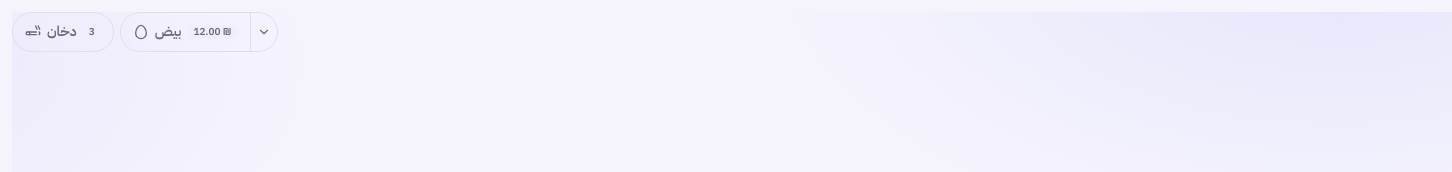
it: opening a card › closes on Escape
This screenshot has width=1452, height=172.
Click the button with test id "quick-card-eggs-menu" at (263, 32), box 250,13 -> 277,51
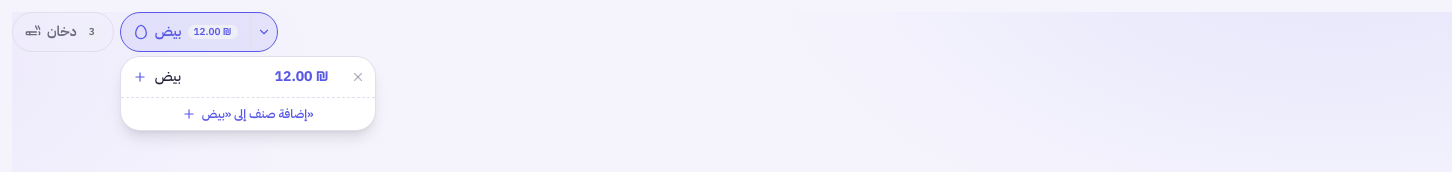
Now the menu with test id "quick-card-options" is shown, box 120,56 -> 376,131
Press Escape
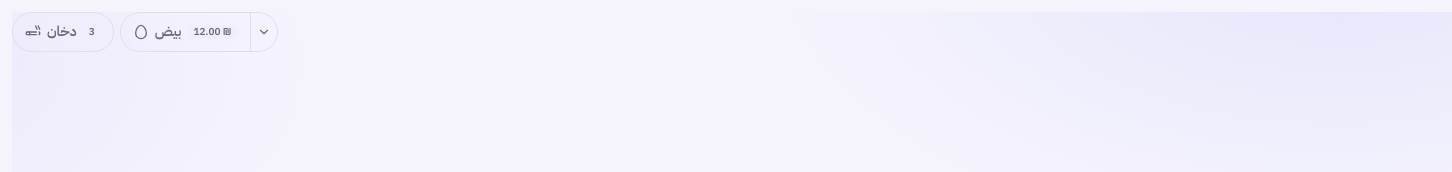
Now the menu with test id "quick-card-options" is gone
